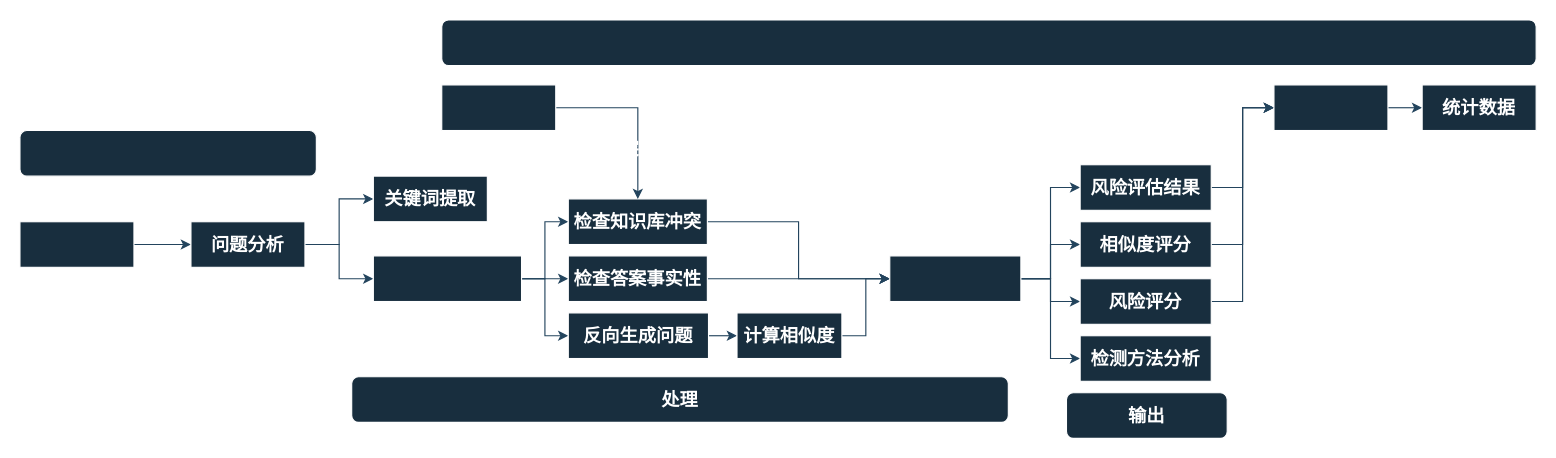
The diagram is 1556 pixels wide and 458 high, and some of its shapes have lost their labels. Here are the shapes that lost their labels. From the top down, the box of each, then its label:
(441, 19, 1536, 66): 存储
(441, 84, 556, 131): 知识库
(1273, 84, 1388, 131): 历史记录
(19, 129, 316, 176): 输入
(19, 221, 134, 267): 用户问题
(372, 255, 522, 302): API调用生成答案
(889, 255, 1021, 302): 幻觉检测集成
